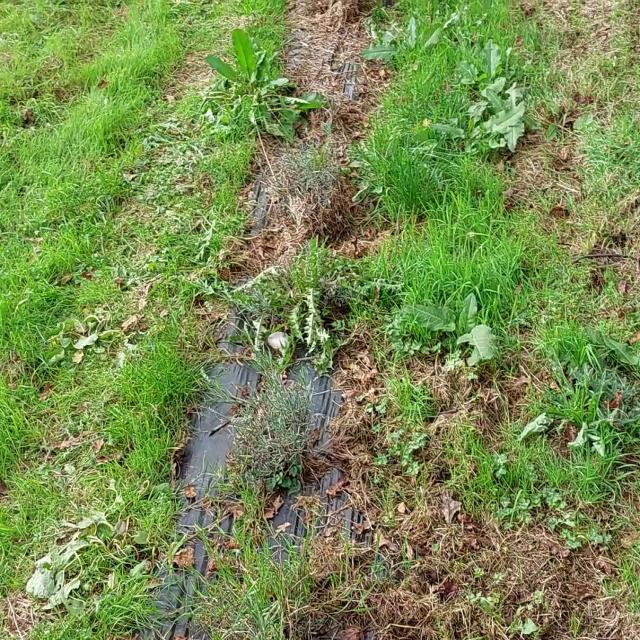organic waste: (190, 12, 328, 150), (12, 513, 124, 622), (395, 280, 512, 375), (442, 88, 562, 174), (361, 2, 461, 81), (54, 276, 135, 371), (441, 22, 529, 109)
